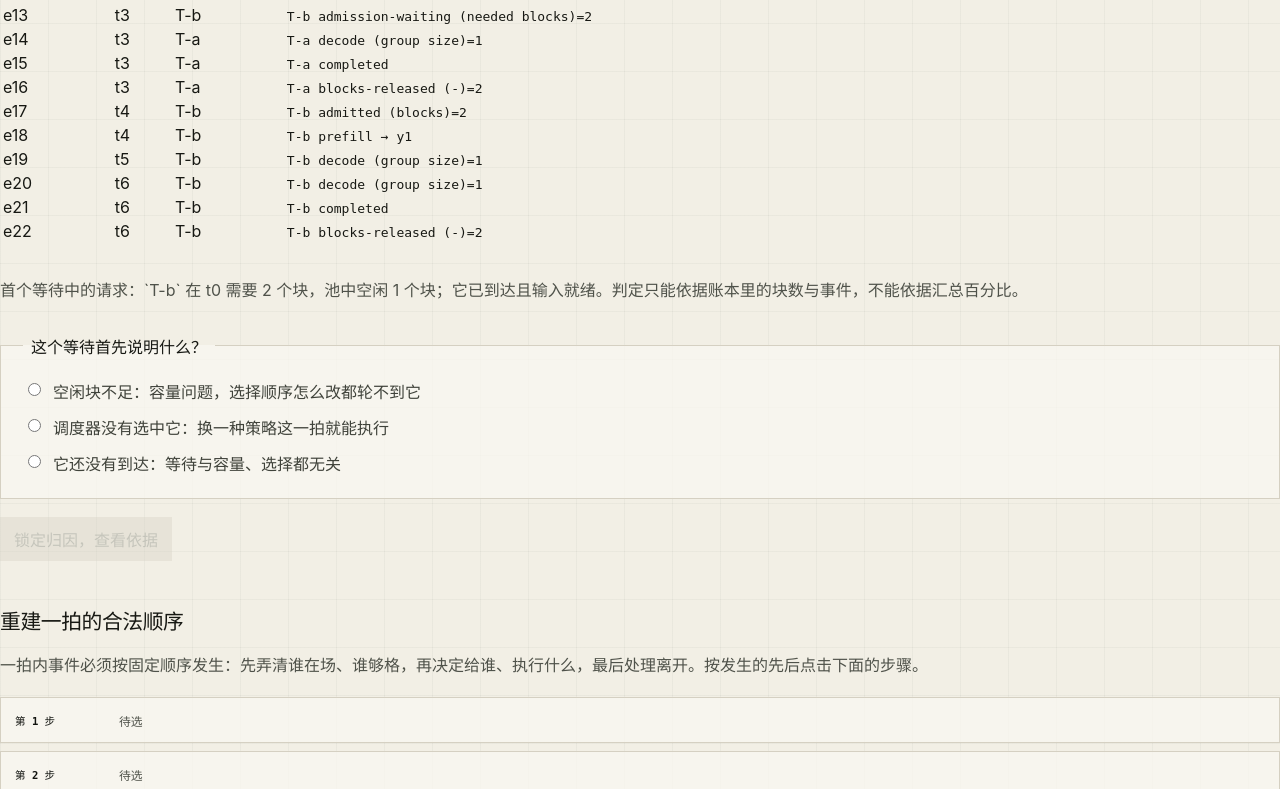
Test: tick ledger practice component › requires a locked prediction before revealing the evidence
(page scrolled)
Click the radio button labelled "空闲块不足：容量问题，选择顺序怎么改都轮不到它".
click(34, 389)  # box 28,382 -> 41,396
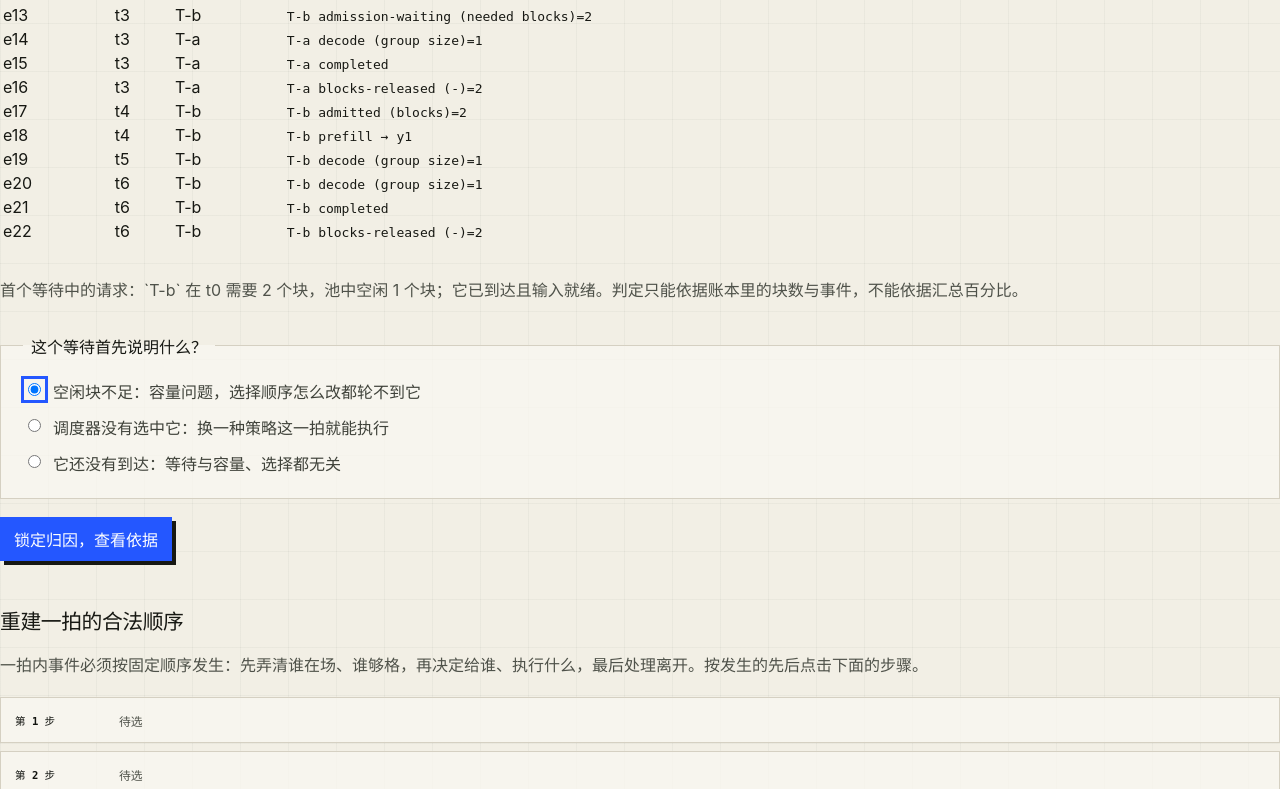
Click the button "锁定归因，查看依据".
click(86, 538)  # box 0,516 -> 172,560
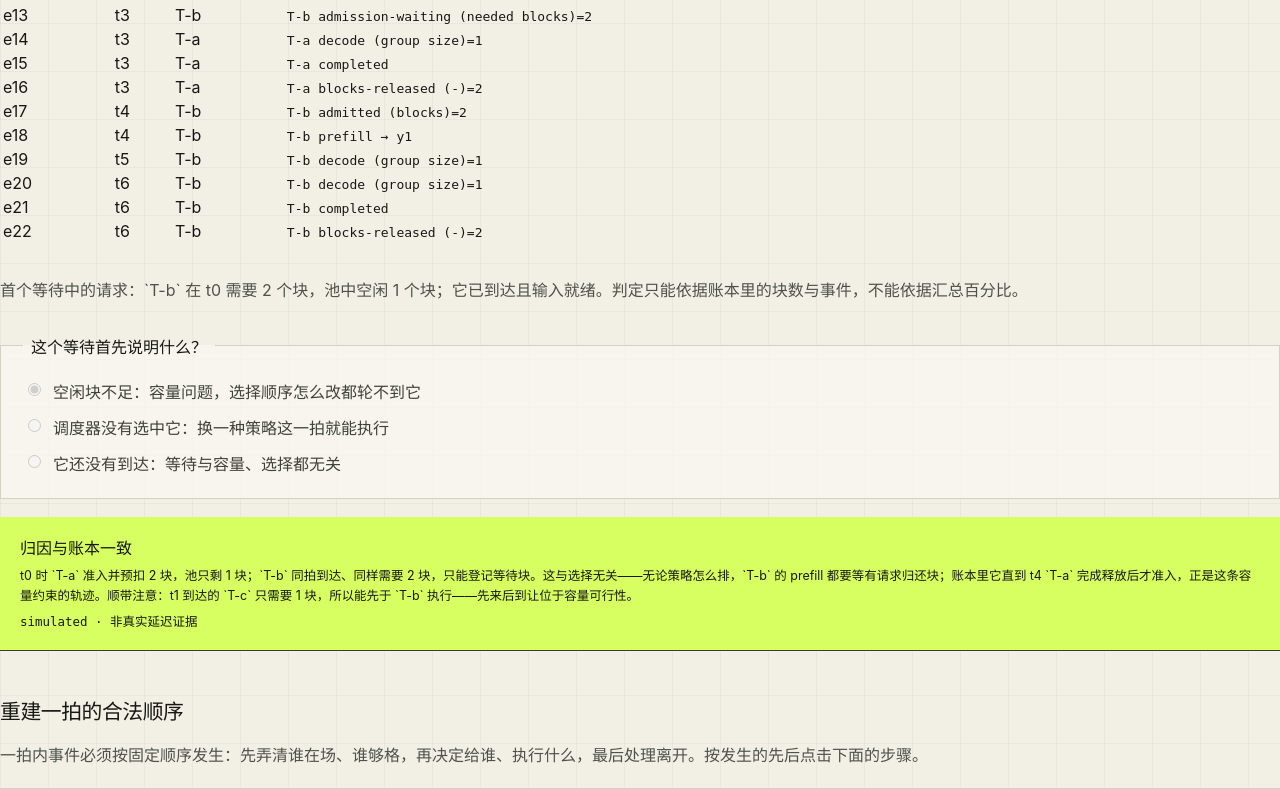
Result: the text "先来后到让位于容量可行性" is shown at 20,568 -> 1251,602
Result: the text "simulated · 非真实延迟证据" is shown at 20,614 -> 197,630
